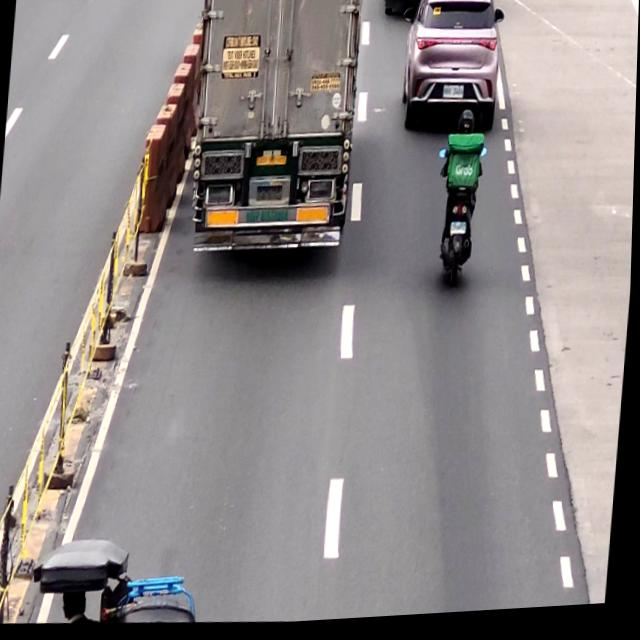Car: (396, 0, 508, 143)
License-Plate: (257, 187, 285, 206), (443, 87, 465, 107), (450, 226, 469, 243)
Motorcycle: (431, 151, 487, 296)
Truck: (183, 0, 367, 270)
